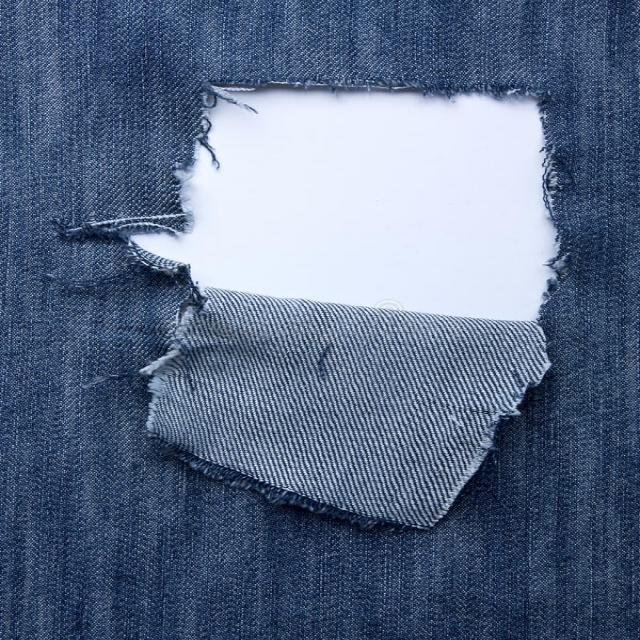Hole: (127, 88, 558, 530)
